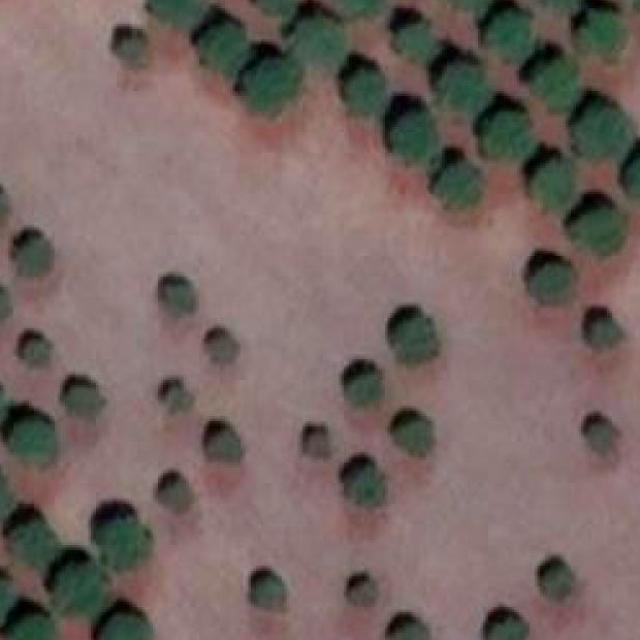Tree: (576, 99, 631, 164), (522, 148, 577, 210), (478, 106, 538, 161), (533, 50, 584, 110), (524, 248, 574, 308), (101, 517, 153, 572), (243, 52, 292, 110), (290, 13, 342, 65), (574, 194, 620, 251), (483, 8, 535, 58), (387, 313, 437, 364), (57, 564, 106, 615), (579, 6, 624, 61), (199, 22, 246, 73), (390, 109, 440, 156), (435, 58, 481, 109), (339, 65, 385, 115), (393, 19, 438, 65), (434, 161, 483, 202), (11, 522, 56, 564), (11, 421, 53, 463), (349, 462, 388, 507), (150, 0, 208, 29), (106, 29, 151, 65), (13, 238, 55, 276), (344, 369, 383, 408), (538, 558, 574, 600), (3, 614, 60, 640), (99, 612, 151, 640), (396, 413, 430, 452), (204, 429, 240, 464), (161, 285, 195, 319), (581, 313, 615, 347), (581, 419, 615, 453), (68, 385, 99, 421), (486, 617, 531, 640), (158, 478, 187, 512), (256, 576, 285, 610), (622, 153, 640, 204), (208, 332, 238, 362), (346, 579, 375, 610), (23, 342, 54, 368), (342, 0, 388, 17), (300, 426, 326, 456), (391, 619, 426, 640), (166, 385, 190, 414), (436, 0, 488, 13), (0, 573, 13, 618), (0, 474, 11, 524), (250, 0, 292, 13), (526, 0, 578, 10), (0, 290, 11, 324), (622, 0, 639, 13)
